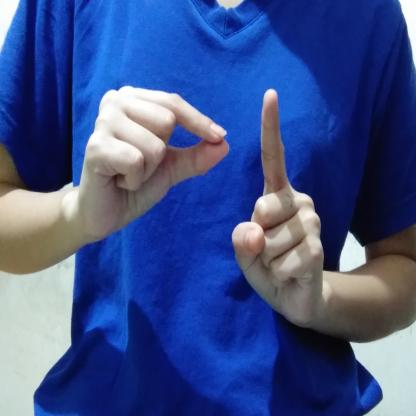son: (74, 73, 336, 338)
